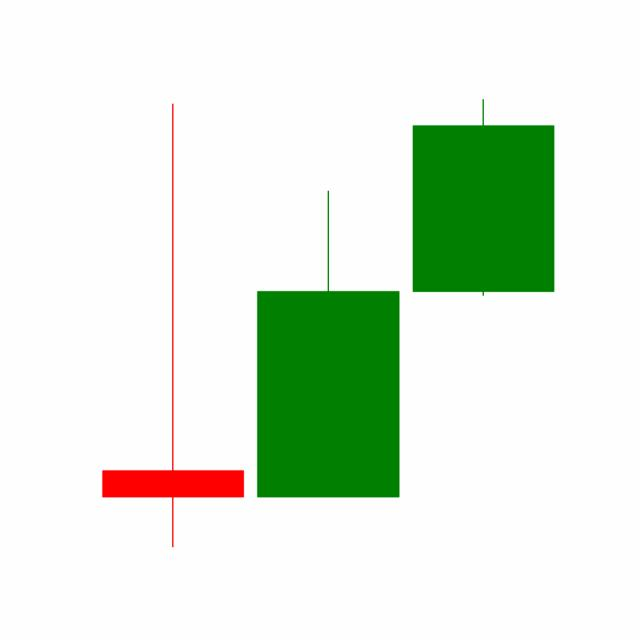Marubozu: (405, 96, 561, 298)
